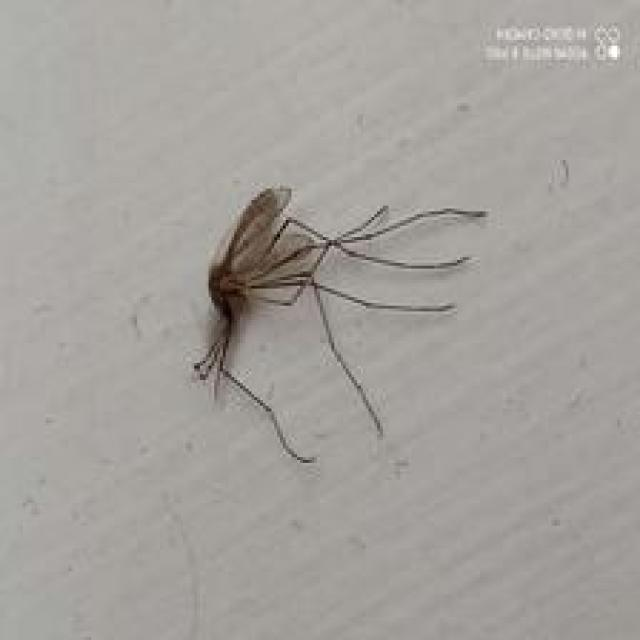Culex: (192, 185, 488, 464)
